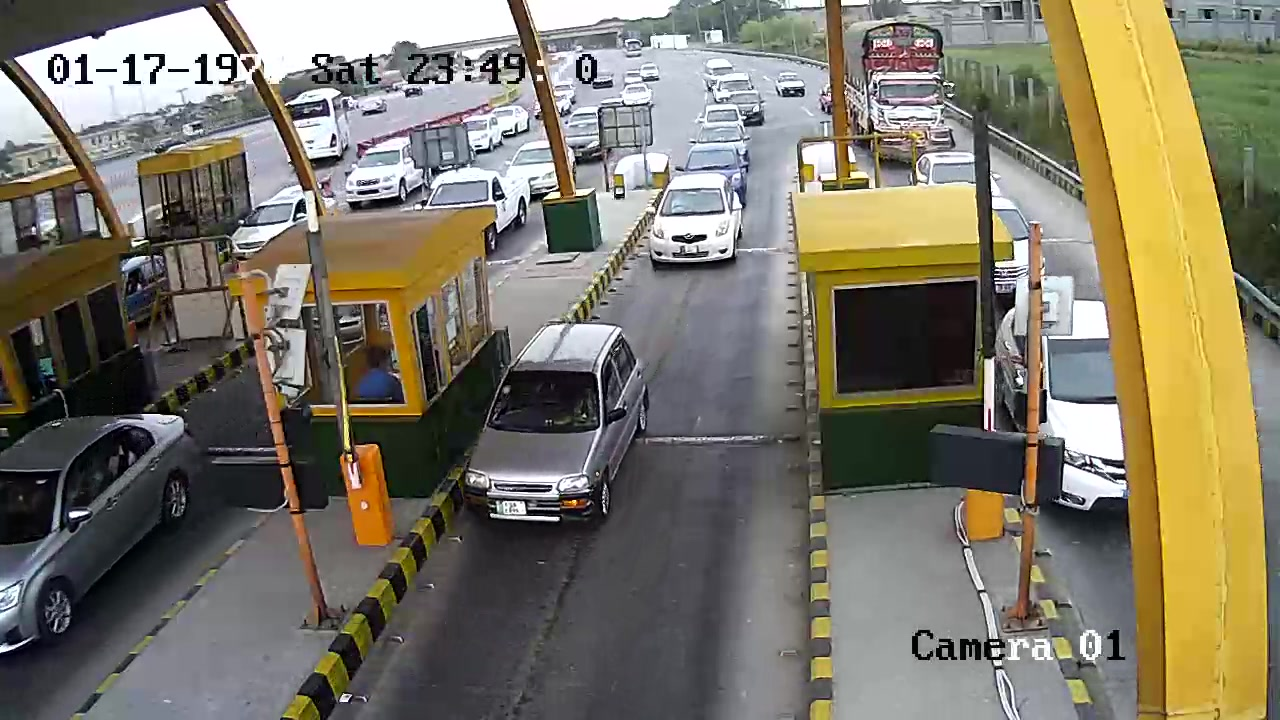F1: (453, 315, 670, 525)
